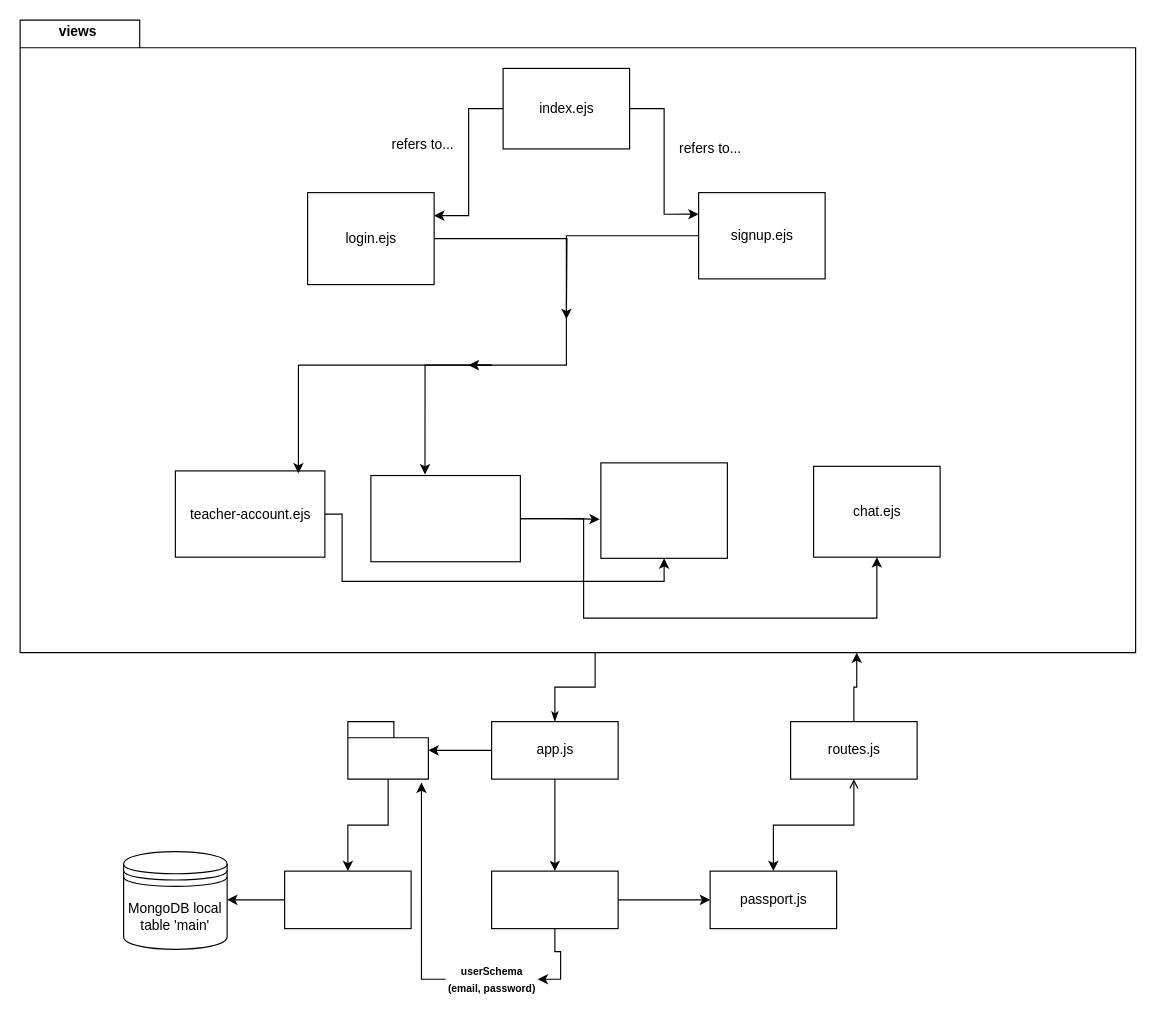
This 1156x1027 diagram has some shape labels left out. The shapes that lost their labels are listed below. From the top down, each one's box as (x1, y1, x2, y2) in pixels, then its label:
(370, 474, 520, 562): student-account.ejs
(600, 462, 727, 558): forum.ejs
(347, 720, 428, 779): Mongoose
(283, 870, 411, 929): database.js
(490, 870, 618, 929): user.js
